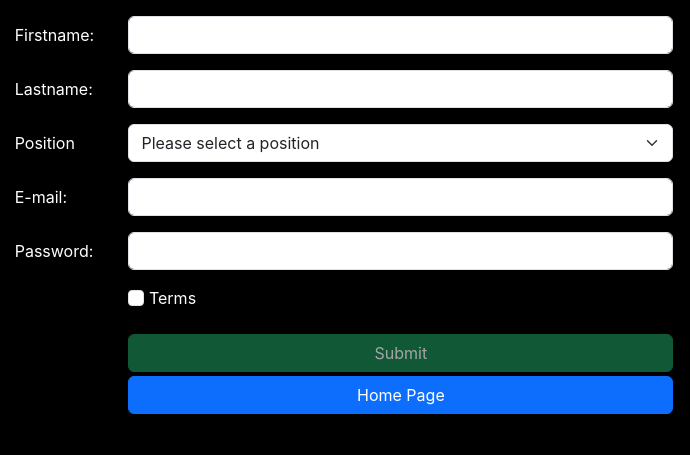
Test case: Form Tests › checks terms input errors
Check the checkbox with test id "input-terms".
click(136, 298)  # box [128, 290, 144, 306]
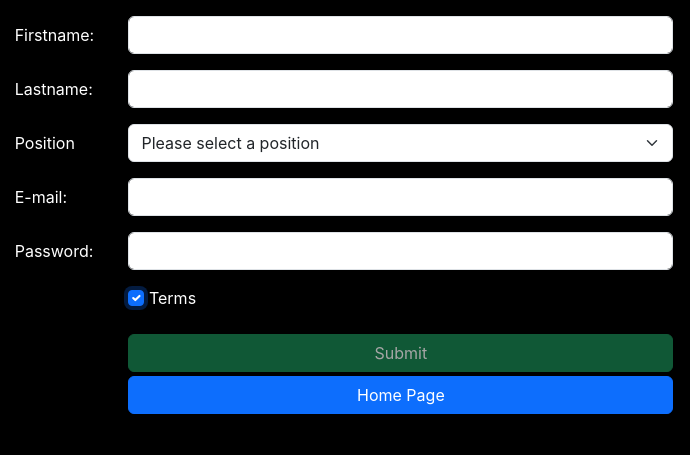
Uncheck the checkbox with test id "input-terms".
click(136, 298)  # box [128, 290, 144, 306]
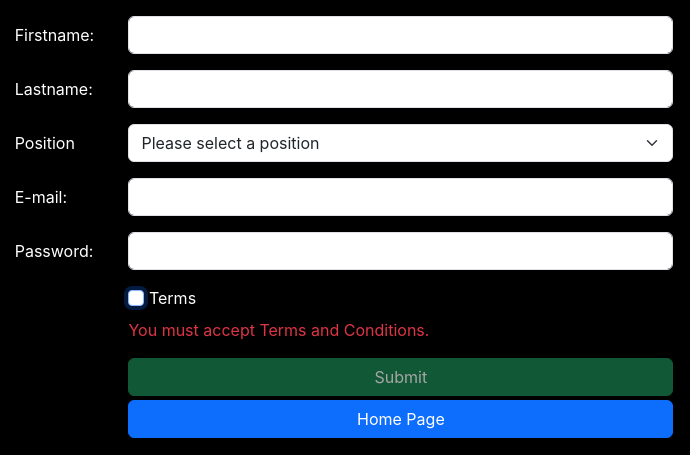
Expected: the number of elements with test id "error" is 1, [128, 320, 429, 340]
Expected: the text with test id "error" reads "You must accept Terms and Conditions.", [128, 320, 429, 340]
